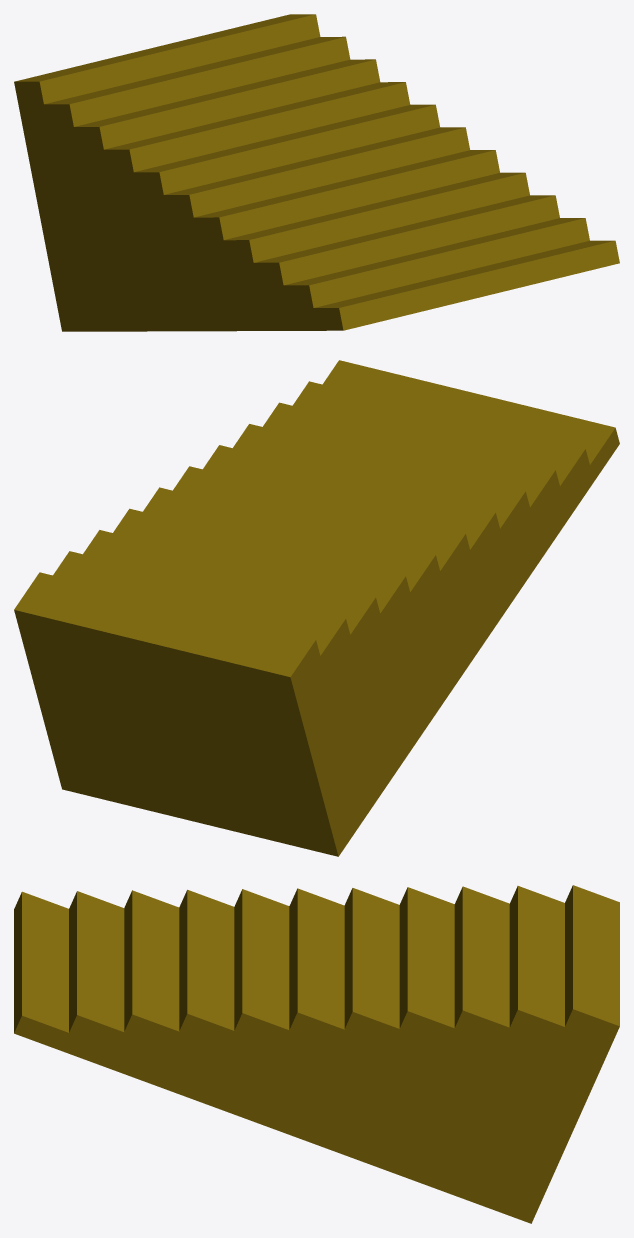
Rendered from stairsConector.obj.
The picture shows the model from 3 angles, top to bottom: view 1: azimuth 30°, elevation 25°; view 2: azimuth 150°, elevation 25°; view 3: azimuth 270°, elevation 25°; orthographic projection. The views are drawn at different scales.
Parts seen in each view (by area): view 1: StraightStair001; view 2: StraightStair001; view 3: StraightStair001.
Boxes of the visible parts, x1,y1,x2,y2 form: StraightStair001: (14, 14, 619, 331); StraightStair001: (14, 360, 619, 856); StraightStair001: (14, 885, 619, 1223).
Size of the model in its own units: 7.43 by 6 by 15.34.
